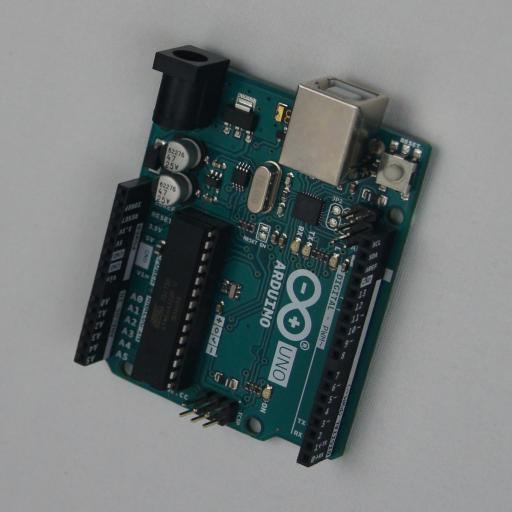Arduino Uno -Green-: (74, 45, 435, 467)
